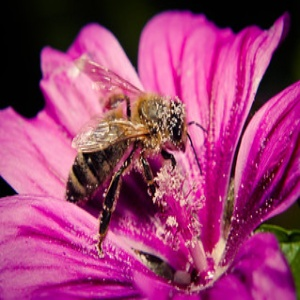bee: (63, 54, 209, 258)
